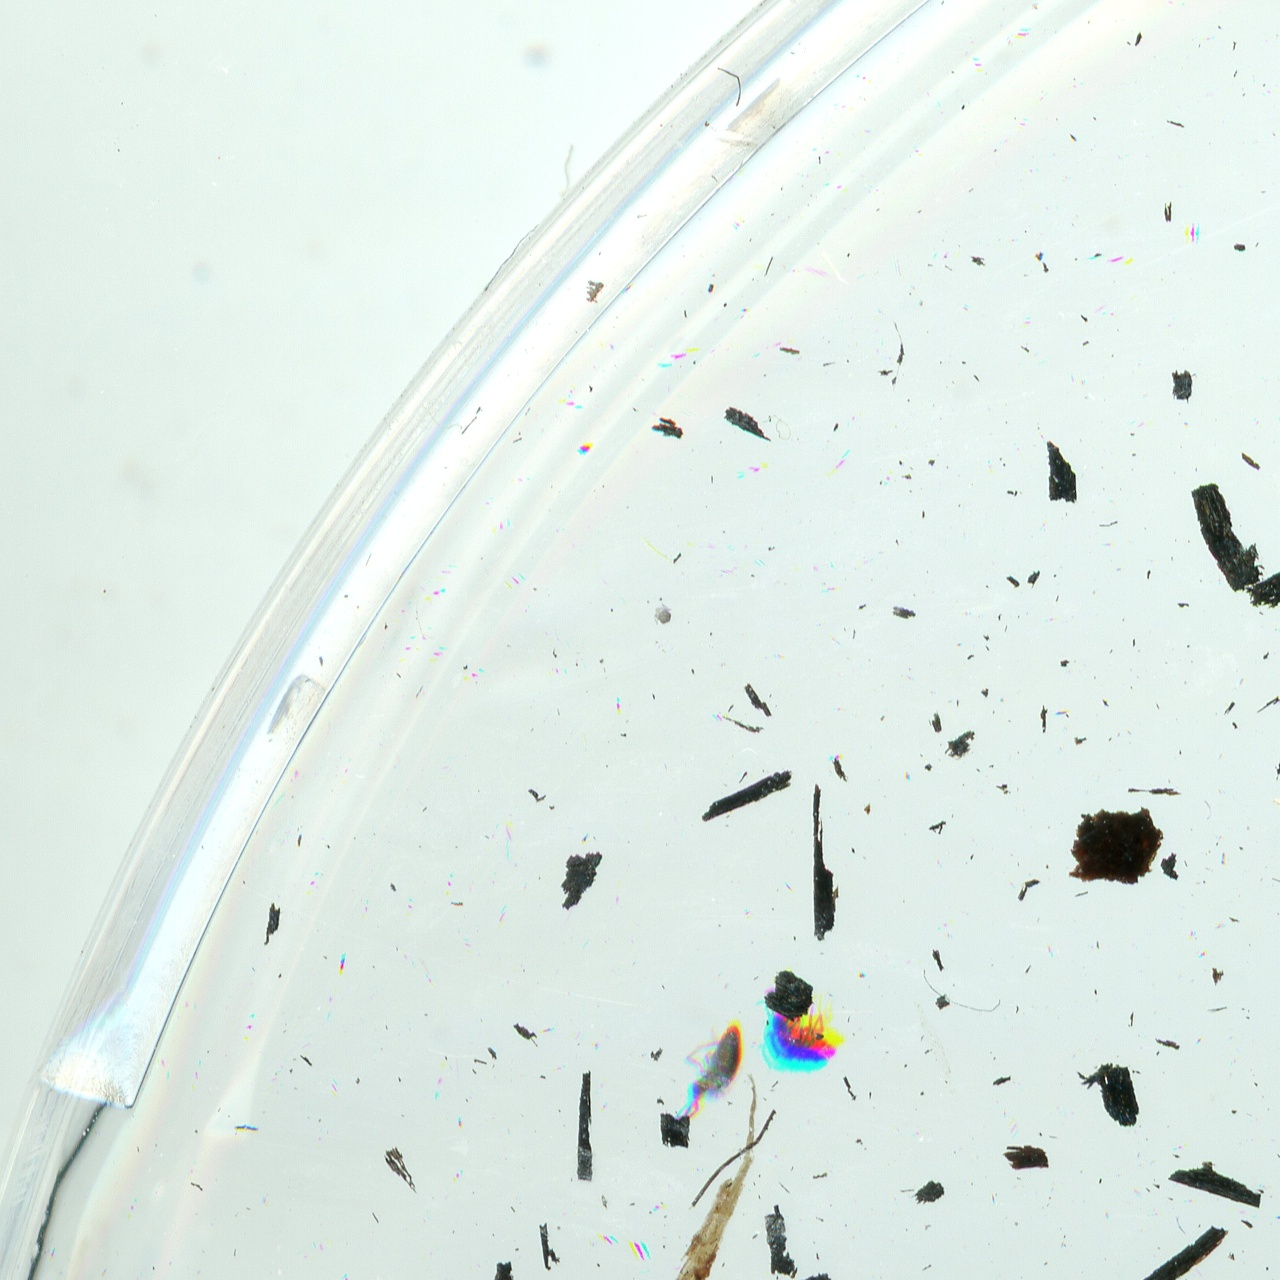arthropod: (671, 1010, 753, 1129), (756, 978, 851, 1076)
